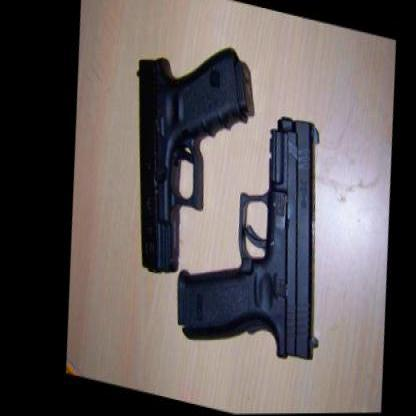pistol: (146, 86, 343, 373), (104, 21, 278, 295)
